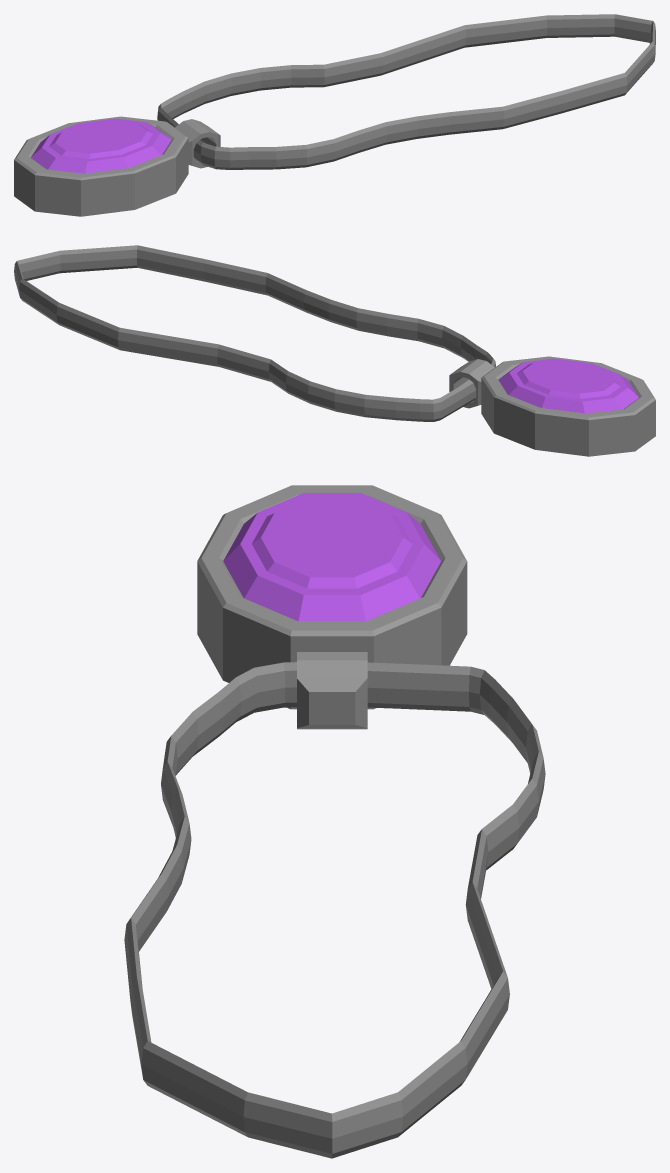
File: PendantV1.fbx
The picture shows the model from 3 angles, top to bottom: view 1: azimuth 30°, elevation 25°; view 2: azimuth 150°, elevation 25°; view 3: azimuth 270°, elevation 25°; orthographic projection. The views are drawn at different scales.
Visible parts, largest first — view 1: Pendant Chain, Pendant; view 2: Pendant Chain, Pendant; view 3: Pendant, Pendant Chain.
Boxes of the visible parts, left/top/right/bottom form: Pendant Chain: left=157, top=14, right=655, bottom=169; Pendant: left=14, top=116, right=220, bottom=216; Pendant Chain: left=14, top=245, right=495, bottom=421; Pendant: left=449, top=356, right=655, bottom=456; Pendant: left=197, top=485, right=467, bottom=729; Pendant Chain: left=124, top=662, right=545, bottom=1158.
Size of the model in its own units: 33.86 by 117 by 8.56.
